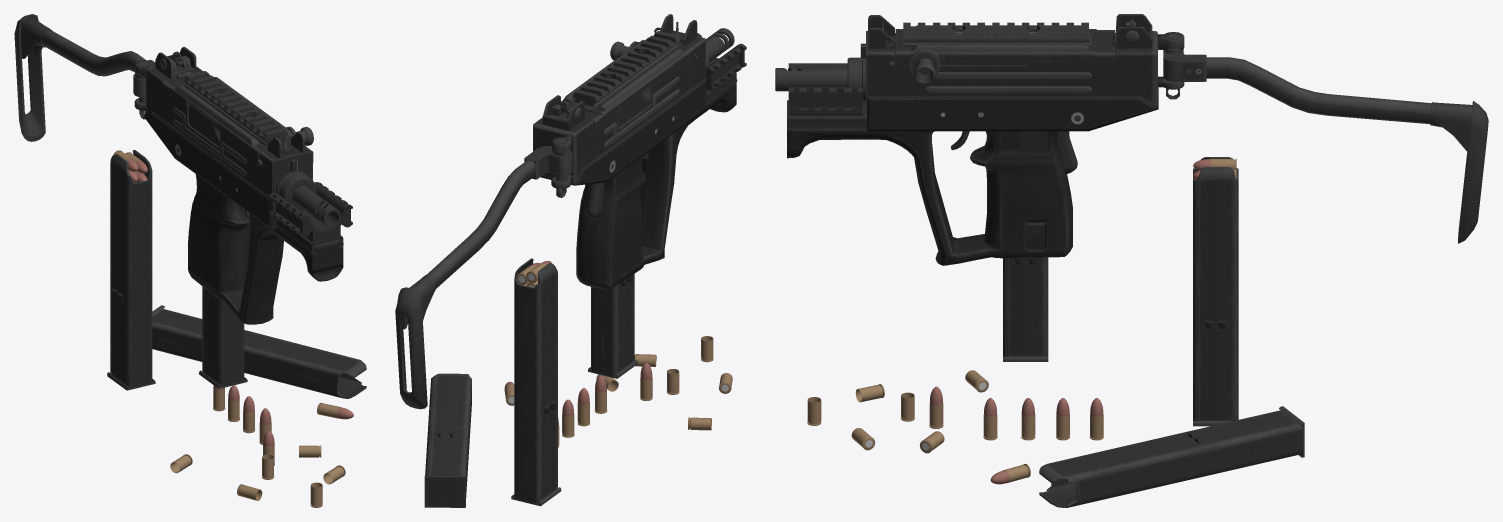
Rendered from military_uziPro_01_doubletap.fbx.
3 views of the same model, side by side, from view 1: azimuth 30°, elevation 25°; view 2: azimuth 150°, elevation 25°; view 3: azimuth 270°, elevation 25° (orthographic). The views are drawn at different scales.
Visible parts, largest first — view 1: receiver_lod0, magazine20rd_loaded, magazine20rd_empty, stockBrace_low_lod0, topCover_lod0, magazine20rd_lod0, chargingHandle_lod0, cartridges_9x19mm_loaded; view 2: receiver_lod0, magazine20rd_loaded, stockBrace_low_lod0, magazine20rd_empty, topCover_lod0, magazine20rd_lod0, chargingHandle_lod0, gripSafety_lod0, cartridges_9x19mm_loaded; view 3: receiver_lod0, magazine20rd_empty, magazine20rd_loaded, stockBrace_low_lod0, topCover_lod0, magazine20rd_lod0, chargingHandle_lod0.
Part boxes in pixels (box(x1,y1,x2,y2)): receiver_lod0: box(134, 46, 352, 324); magazine20rd_loaded: box(107, 150, 155, 390); magazine20rd_empty: box(152, 305, 366, 398); stockBrace_low_lod0: box(14, 14, 155, 141); topCover_lod0: box(162, 71, 293, 165); magazine20rd_lod0: box(199, 286, 247, 388); chargingHandle_lod0: box(188, 104, 313, 152); cartridges_9x19mm_loaded: box(113, 150, 147, 183); receiver_lod0: box(533, 14, 746, 289); magazine20rd_loaded: box(511, 258, 561, 506); stockBrace_low_lod0: box(395, 146, 572, 409); magazine20rd_empty: box(424, 373, 471, 507); topCover_lod0: box(561, 31, 693, 128); magazine20rd_lod0: box(588, 274, 637, 378); chargingHandle_lod0: box(610, 41, 650, 127); gripSafety_lod0: box(585, 182, 604, 217); cartridges_9x19mm_loaded: box(516, 261, 551, 287); receiver_lod0: box(775, 14, 1184, 265); magazine20rd_empty: box(1039, 406, 1304, 507); magazine20rd_loaded: box(1193, 157, 1238, 426); stockBrace_low_lod0: box(1163, 48, 1488, 243); topCover_lod0: box(895, 22, 1115, 69); magazine20rd_lod0: box(1003, 257, 1048, 361); chargingHandle_lod0: box(909, 49, 1027, 83).
Bounding box in the file's own units: 20.93 × 30.53 × 48.8.
